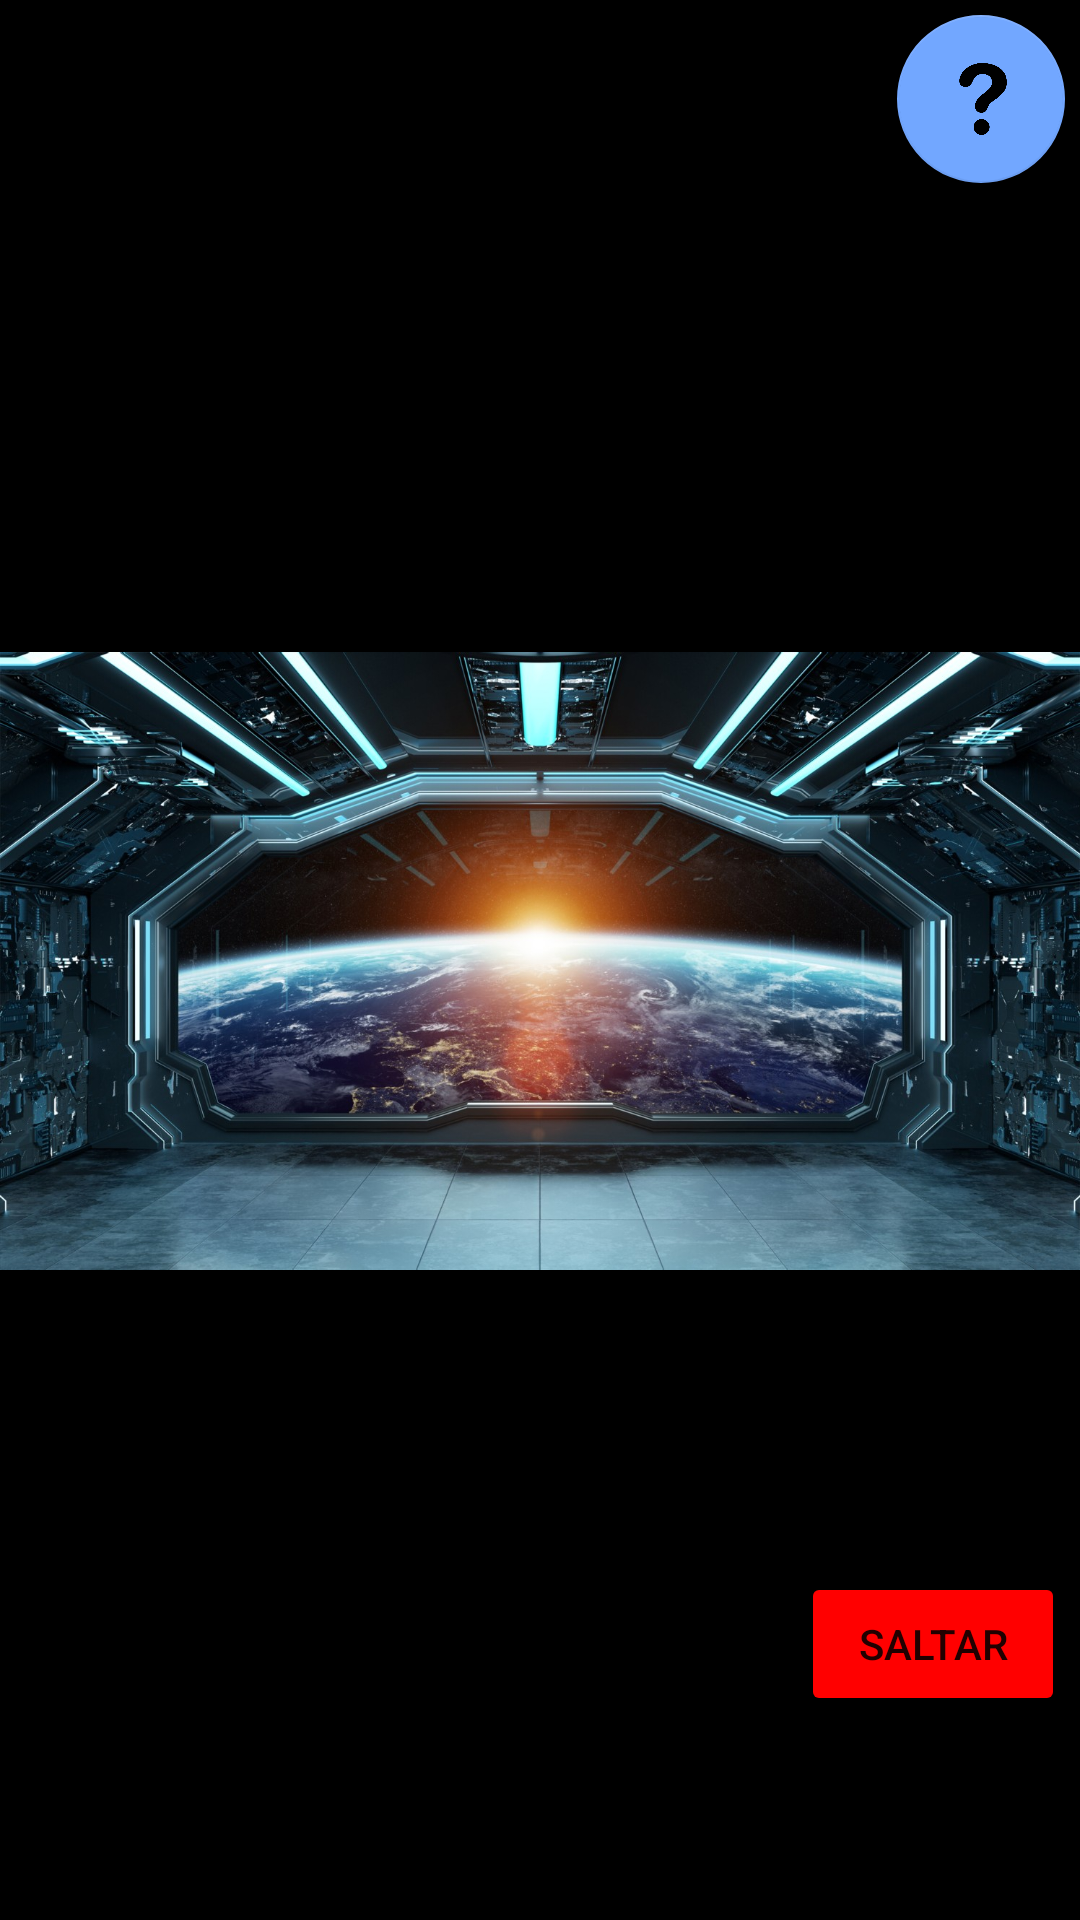

Named icons in this screenshot (1080px×1920px) and their bounding boxes, (x1, y1, x2, y2):
help: (897, 15, 1065, 183)
